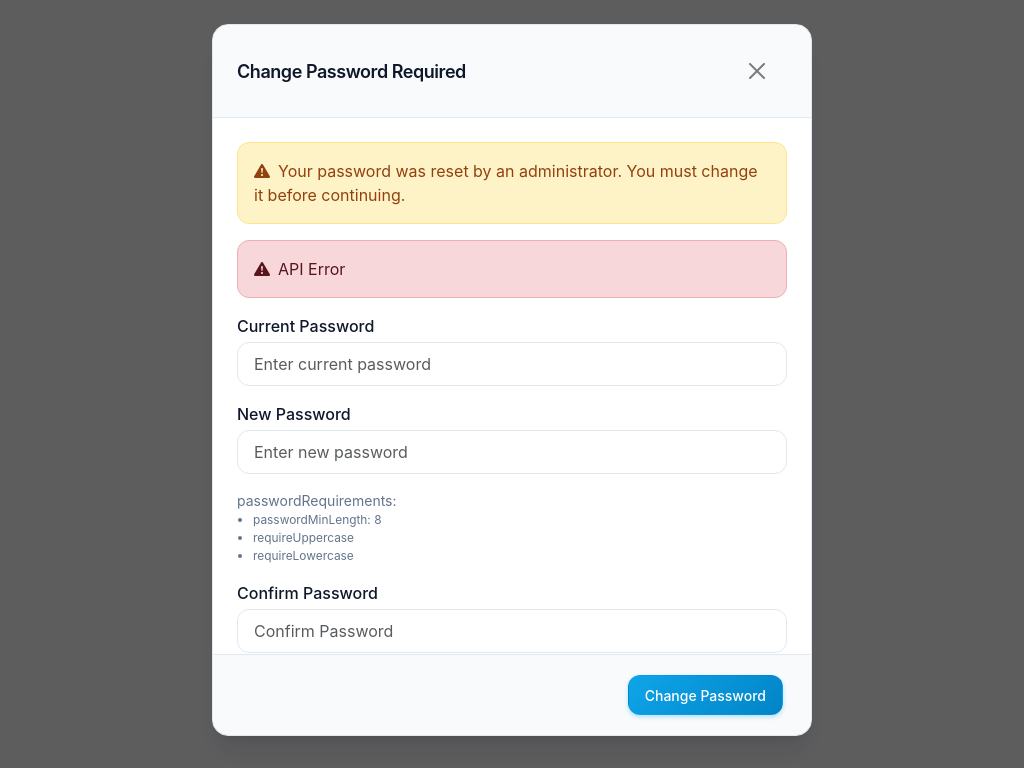
Test case: ForceChangePasswordModal › Form Validation › should prioritize local validation errors over API errors
What coordinates should you click on to do the following:
click the button "Change Password"
I would click on:
 (705, 695)
Its box is [628,675,783,715].
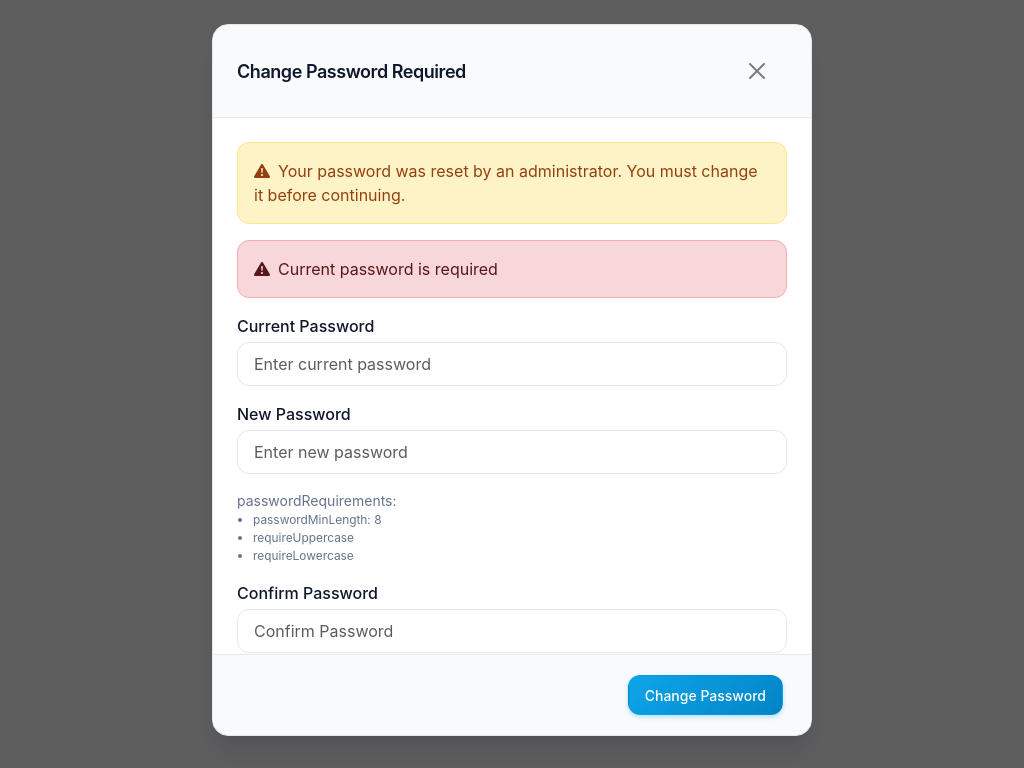
Expected: the text "Current password is required" is shown, [237,240,787,298]
Expected: the text "API Error" is gone
